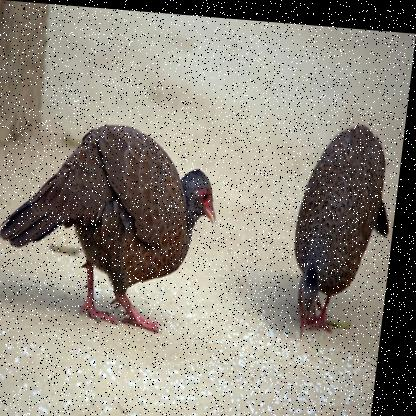Burung: (0, 111, 230, 334), (292, 112, 403, 339)
